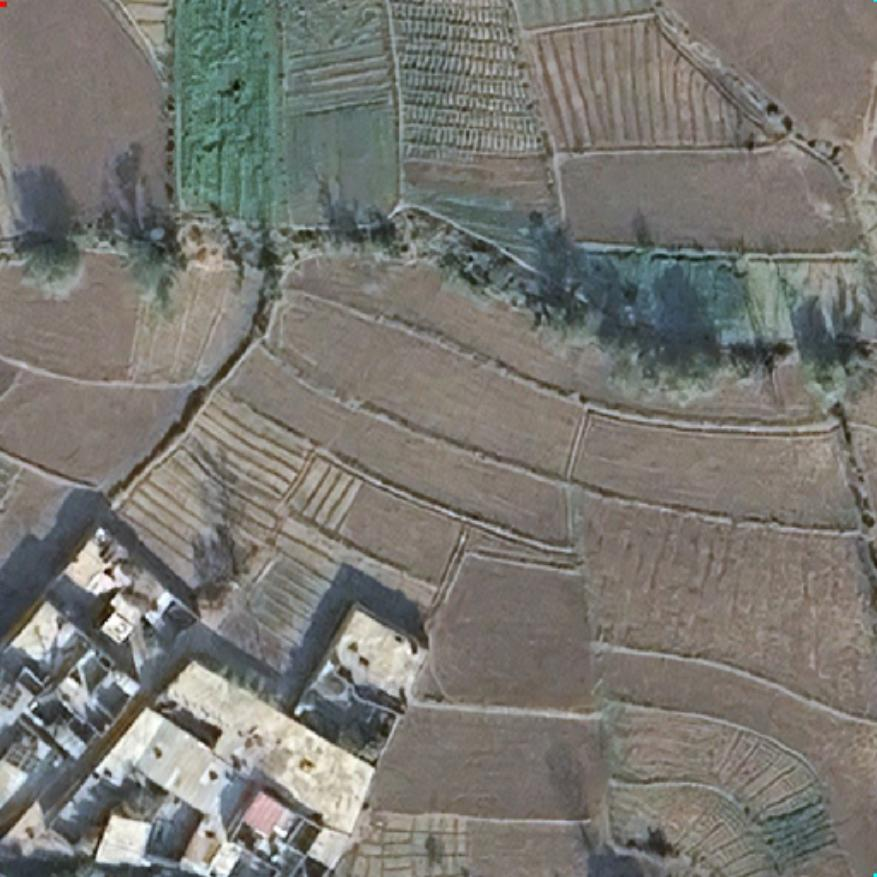Solarpanel: (1, 740, 45, 782), (0, 679, 26, 716)
